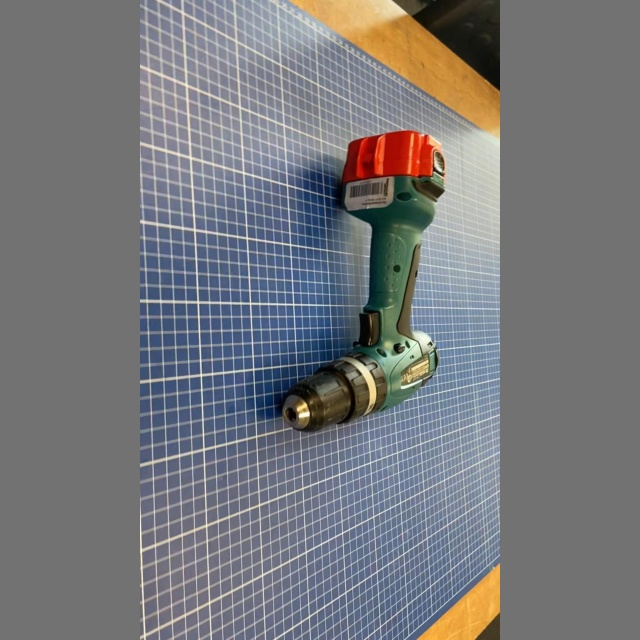drill: (271, 124, 453, 440)
